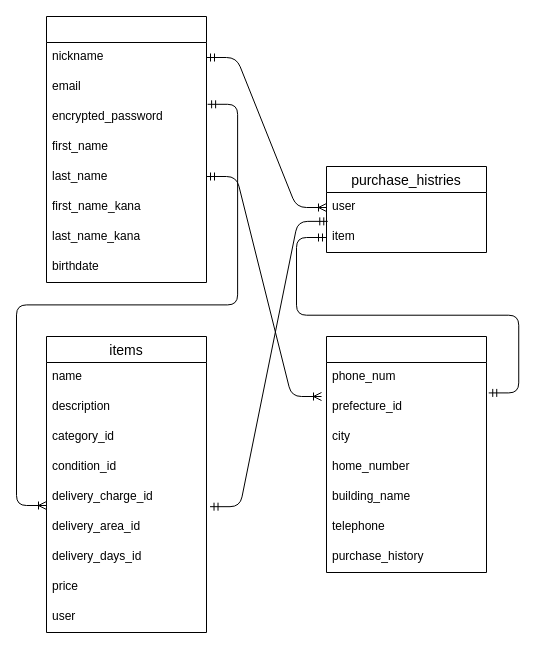
Image size: 535x649. Some labels were removed from this diagram. The box of each missing label's shape, as (x1, y1, x2, y2) in pixels:
addresses: (326, 336, 486, 572)
users: (46, 16, 206, 282)
